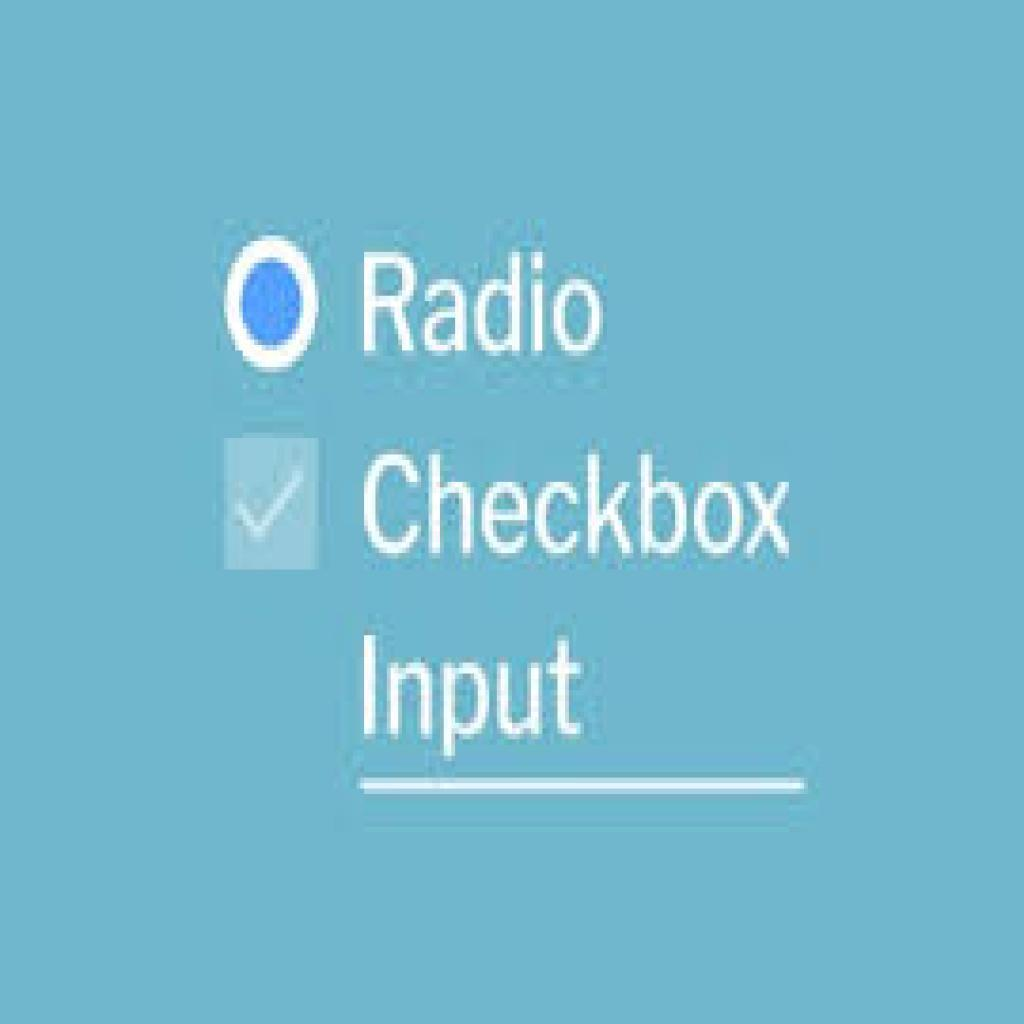checkbox: (221, 439, 321, 572)
label: (362, 448, 796, 569), (357, 237, 609, 366)
radio: (223, 237, 319, 373)
